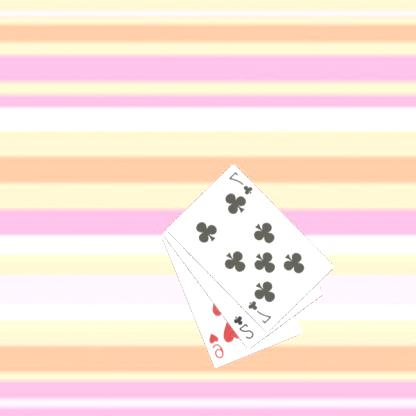2C: (233, 313, 258, 341)
7C: (228, 169, 256, 196), (247, 298, 274, 325)
9H: (207, 331, 228, 360)
